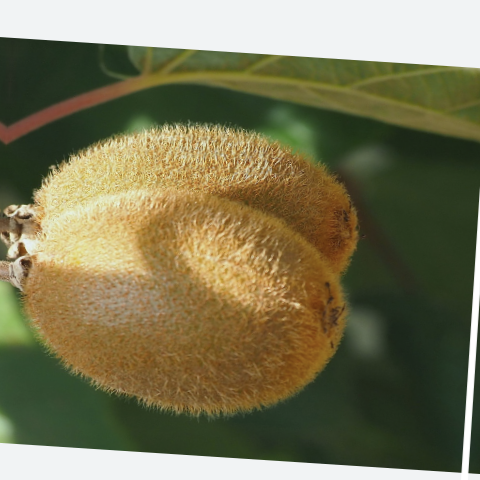kiwi: (0, 179, 381, 428)
